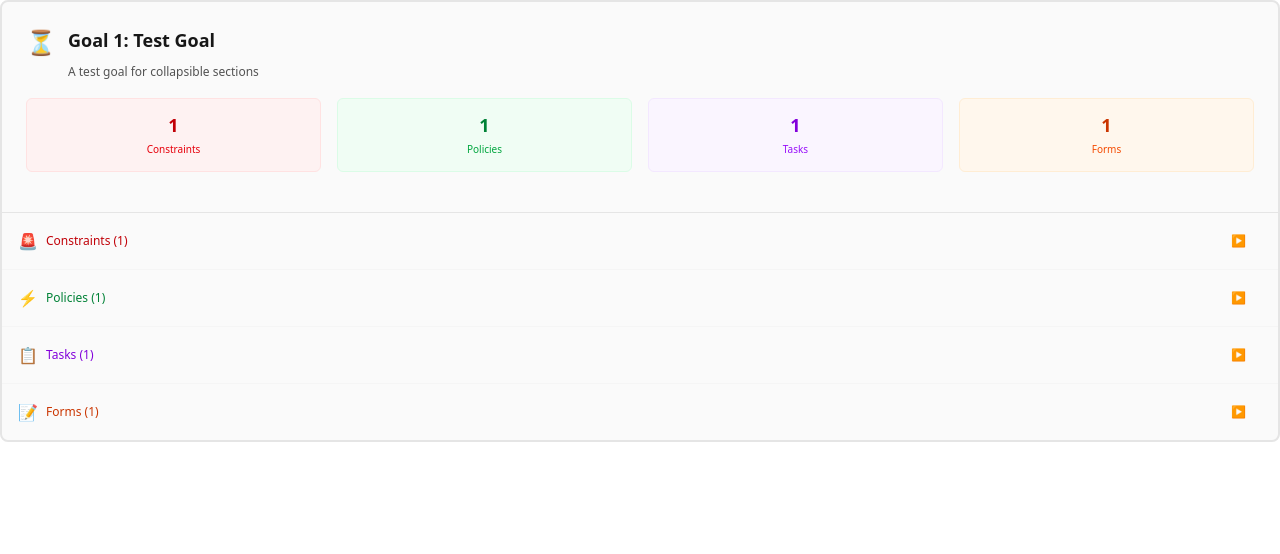
Test case: GoalCardV2 › expands constraints section when clicked
The width and height of the screenshot is (1280, 554).
Click the button "🚨 Constraints (1) ▶".
click(82, 240)  # box [10,220,1254,260]
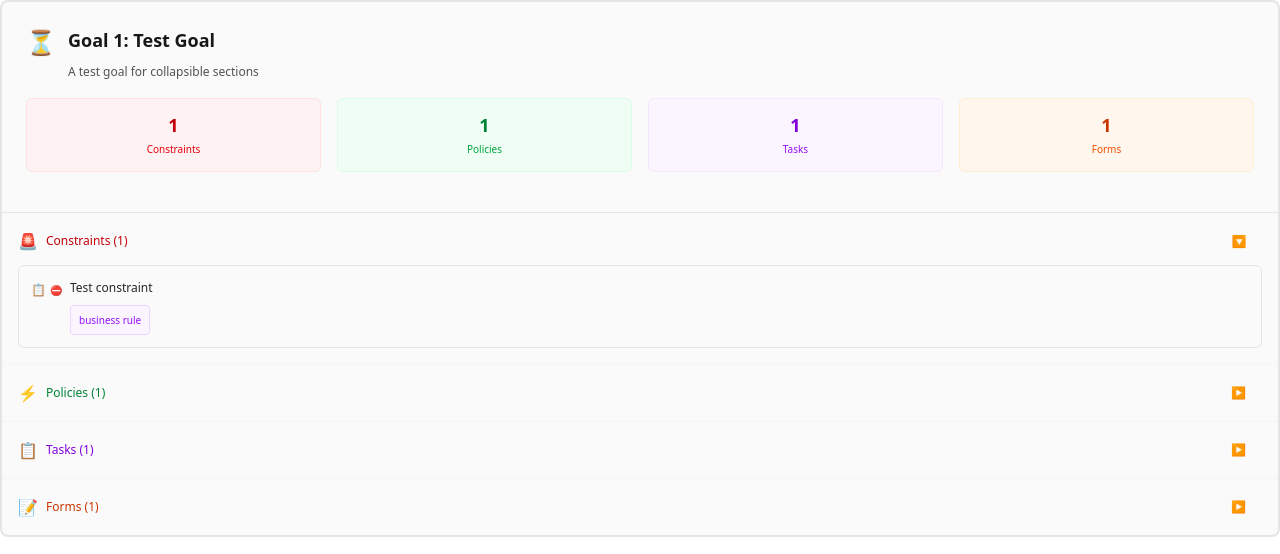
Expected: the text "Test constraint" is shown, [70,278,153,296]
